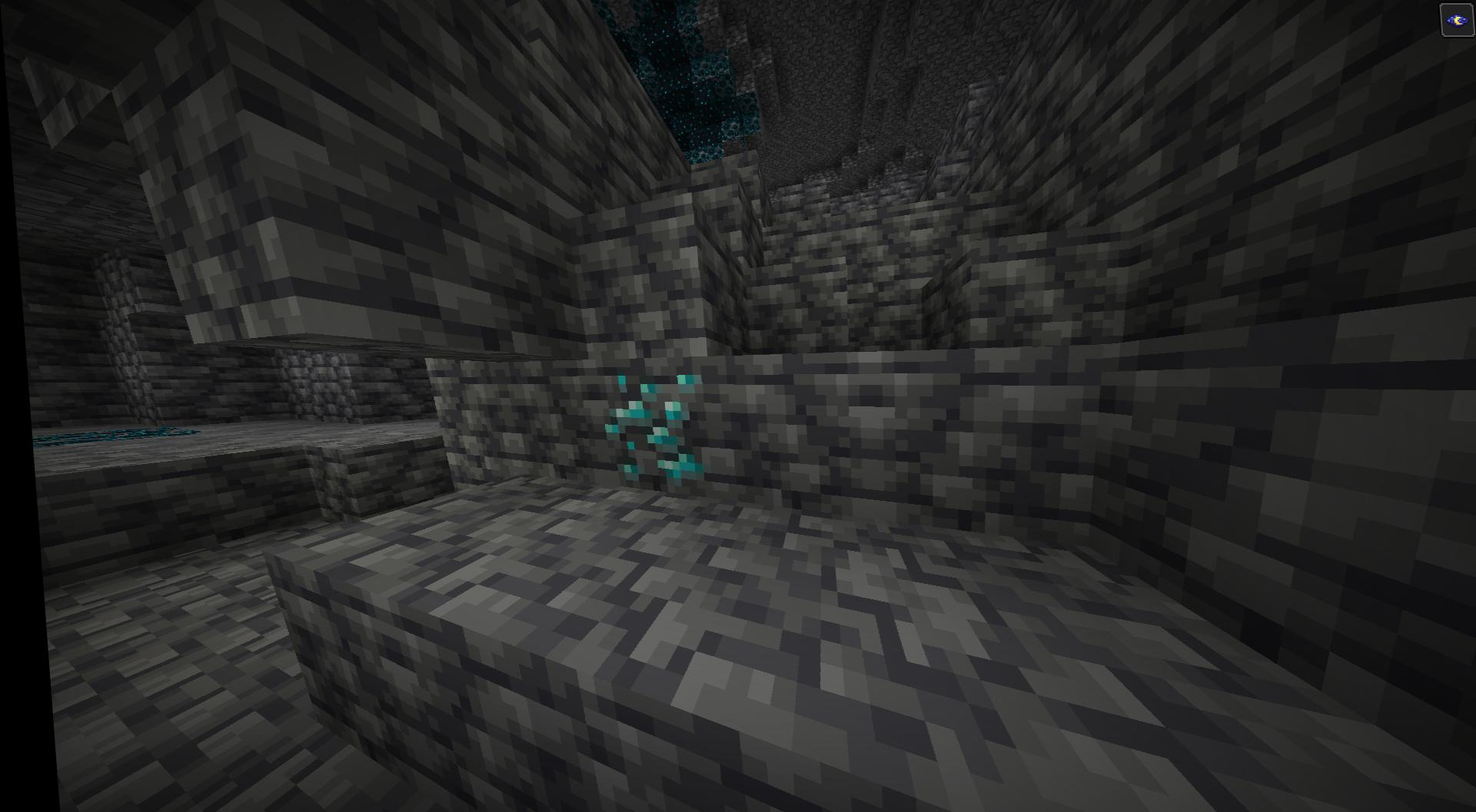diamond ore: (581, 372, 710, 488)
